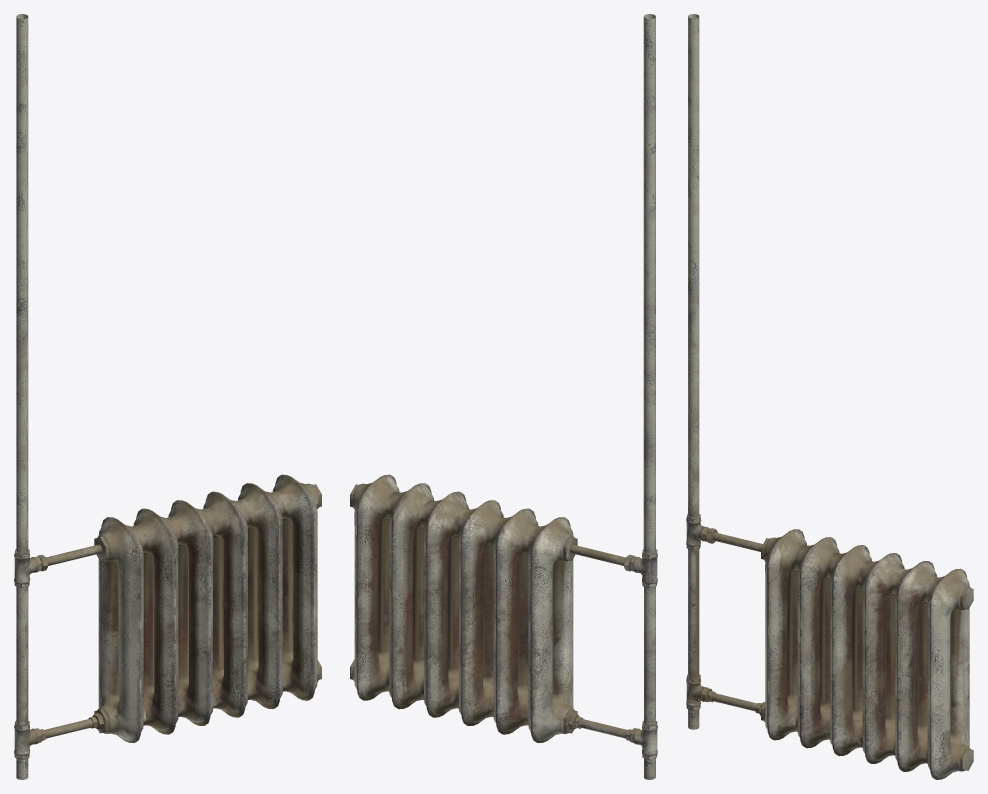
Rendered from (name_conflict)_radiator.gltf.
3 views of the same model, side by side, from view 1: azimuth 30°, elevation 25°; view 2: azimuth 150°, elevation 25°; view 3: azimuth 330°, elevation 25° (orthographic). The views are drawn at different scales.
Bounding box in the file's own units: 0.8337 × 2.01 × 0.1845.
1 material, 1 textured.
